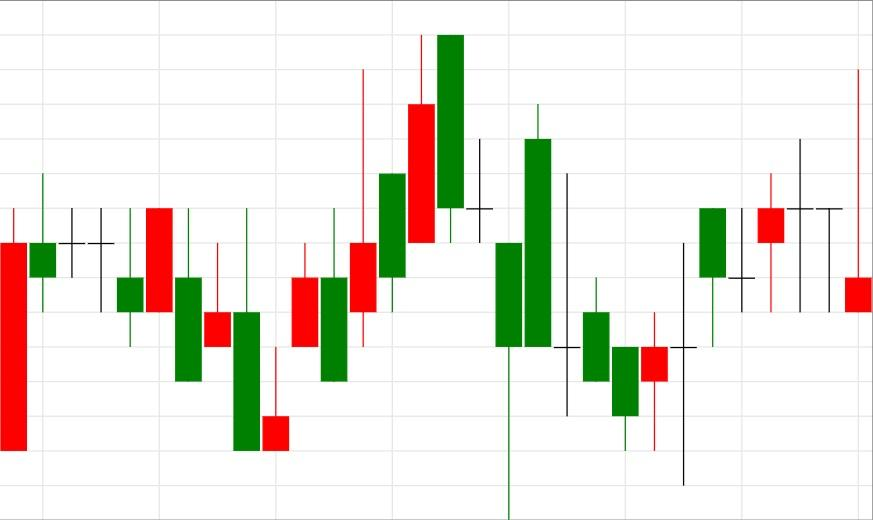inverse_hammer_rise: (29, 172, 290, 452)
